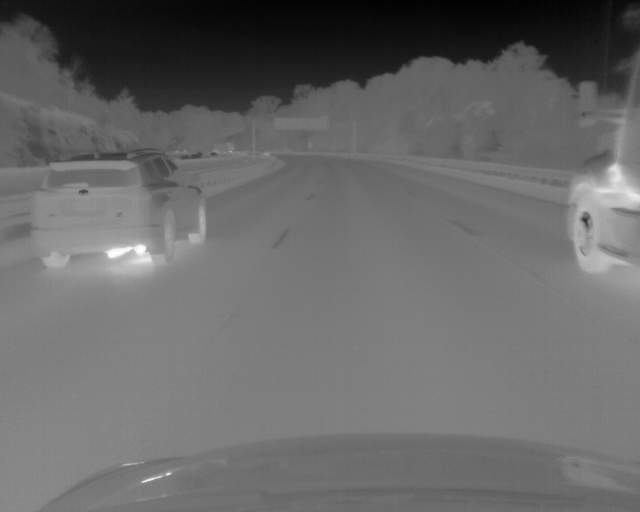car: (34, 150, 209, 269), (563, 72, 640, 278)
